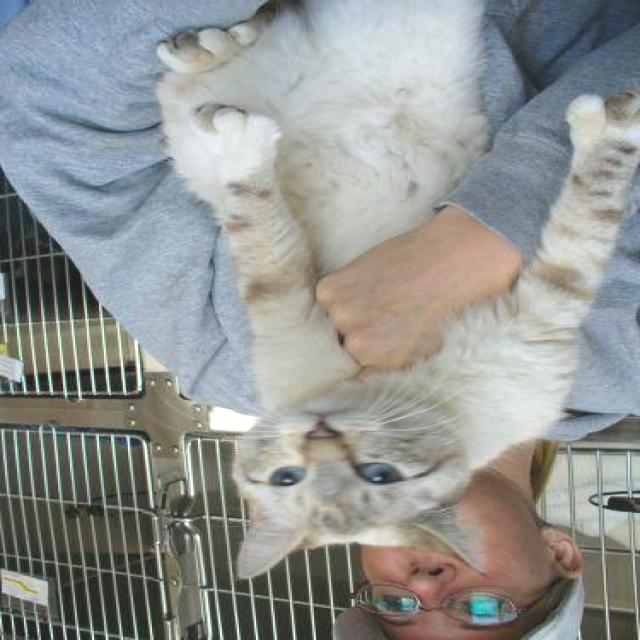Kucing: (139, 22, 558, 578)
